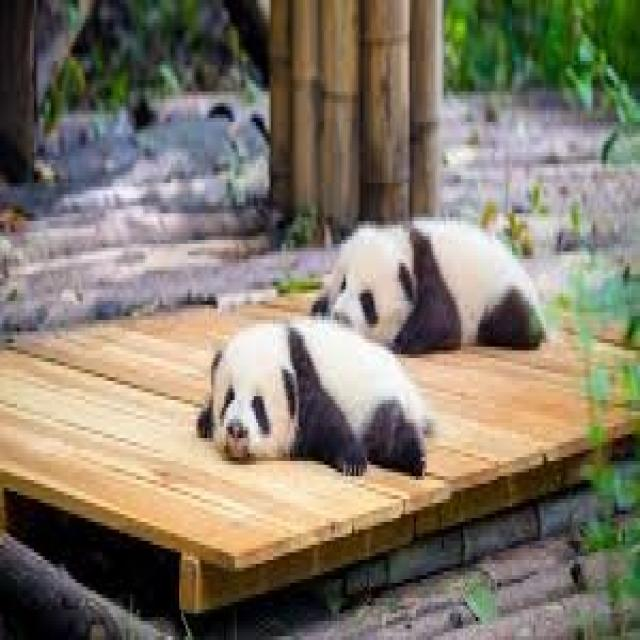Panda: (198, 325, 426, 502), (327, 220, 546, 362)
